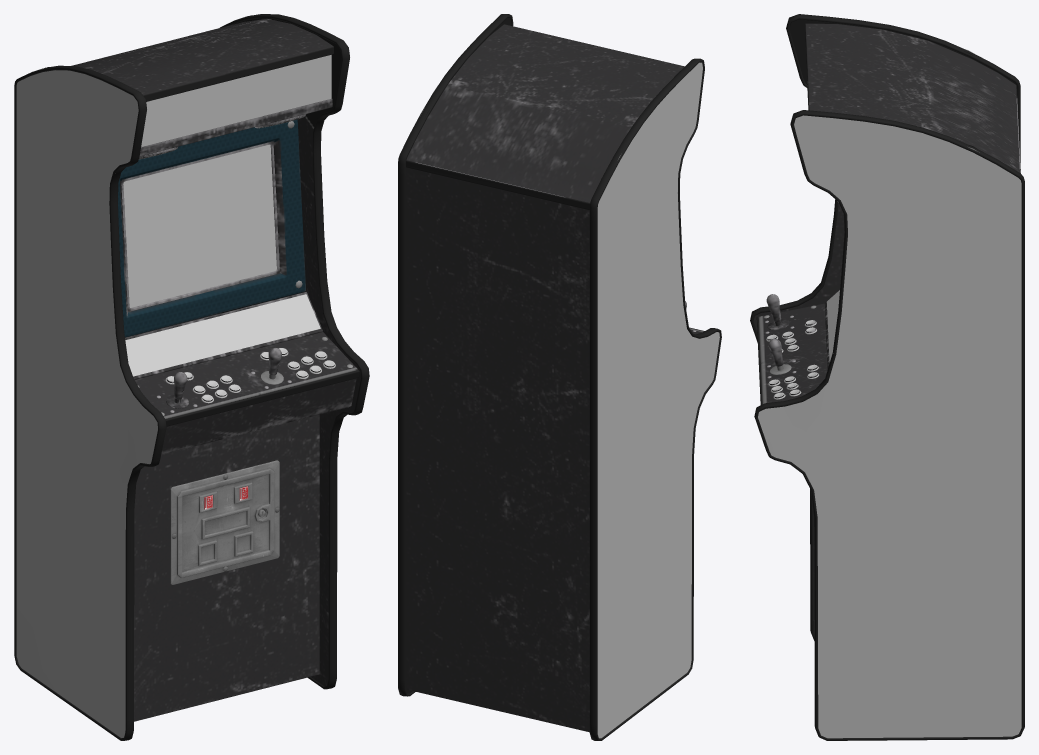
The model's file is arcade.obj.
The picture shows the model from 3 angles, left to right: view 1: azimuth 30°, elevation 25°; view 2: azimuth 150°, elevation 25°; view 3: azimuth 270°, elevation 25°; orthographic projection. The views are drawn at different scales.
Visible parts, largest first — view 1: CR_Arcade_Machine_04; view 2: CR_Arcade_Machine_04; view 3: CR_Arcade_Machine_04.
Boxes of the visible parts, x1,y1,x2,y2 form: CR_Arcade_Machine_04: [14, 14, 369, 740]; CR_Arcade_Machine_04: [398, 14, 721, 740]; CR_Arcade_Machine_04: [750, 14, 1024, 740].
Size of the model in its own units: 0.5721 by 1.65 by 0.654.
